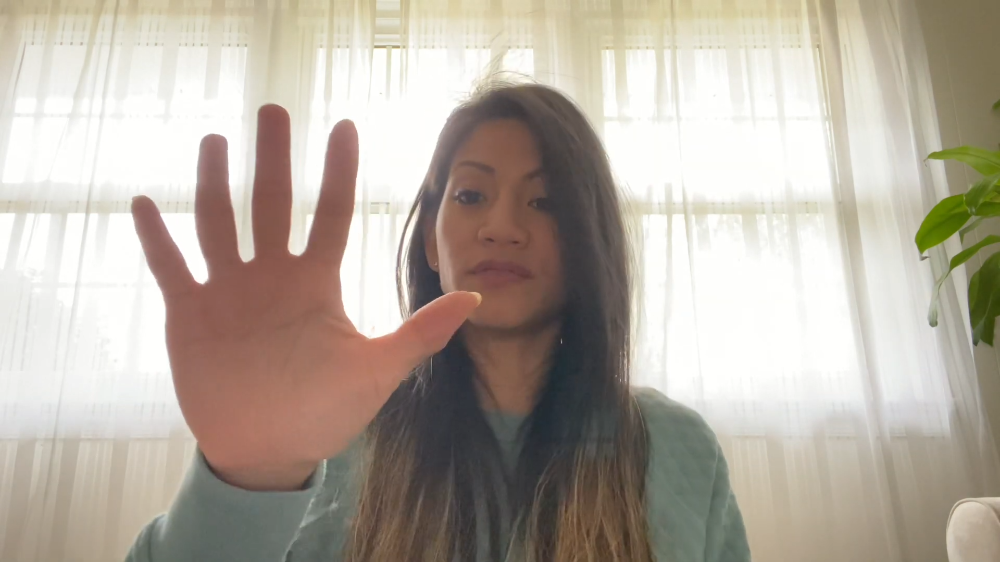hello: (129, 103, 477, 466)
